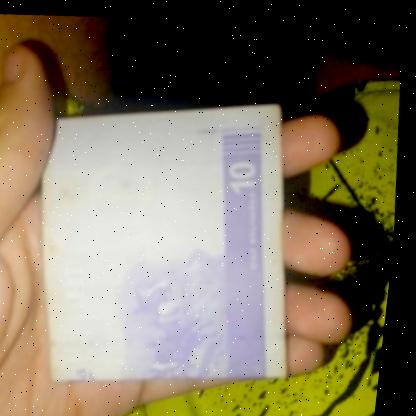ten-back-vef: (24, 80, 318, 397)
